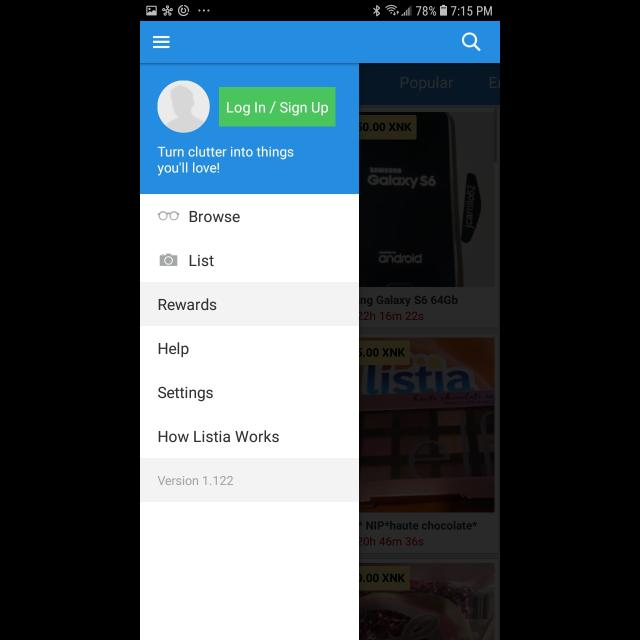icon: (157, 80, 210, 134), (462, 32, 481, 52), (160, 254, 178, 266), (154, 36, 170, 49)
image: (158, 211, 180, 221)
panel: (140, 64, 360, 640)
text: (158, 146, 294, 176), (158, 430, 280, 442), (158, 386, 214, 402), (158, 476, 234, 486), (159, 299, 217, 311), (190, 210, 240, 222), (158, 342, 190, 358), (190, 255, 214, 267)
textbutton: (220, 87, 336, 127)
uppertaskbar: (140, 1, 500, 22)
